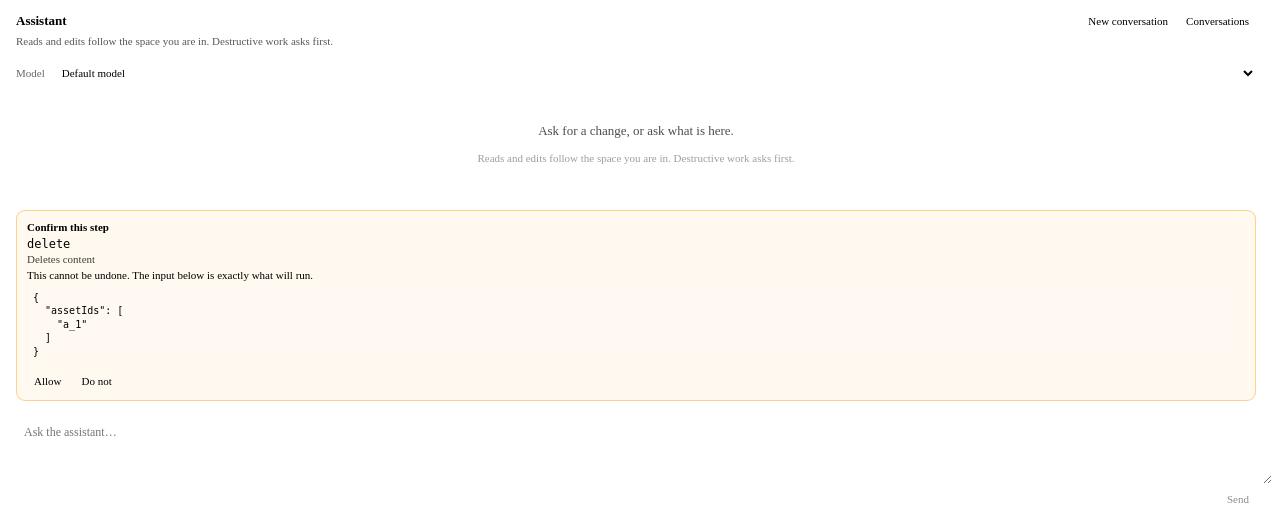
Test case: AgentDock › stops for approval and resolves the loop's promise
Expected: the element with test id "agent-approval" is shown, [16, 210, 1256, 401]
Expected: the text "This cannot be undone. The input below is exactly what will run." is shown, [27, 269, 313, 281]
Click the button "Allow".
click(48, 381)  # box [27, 372, 68, 390]
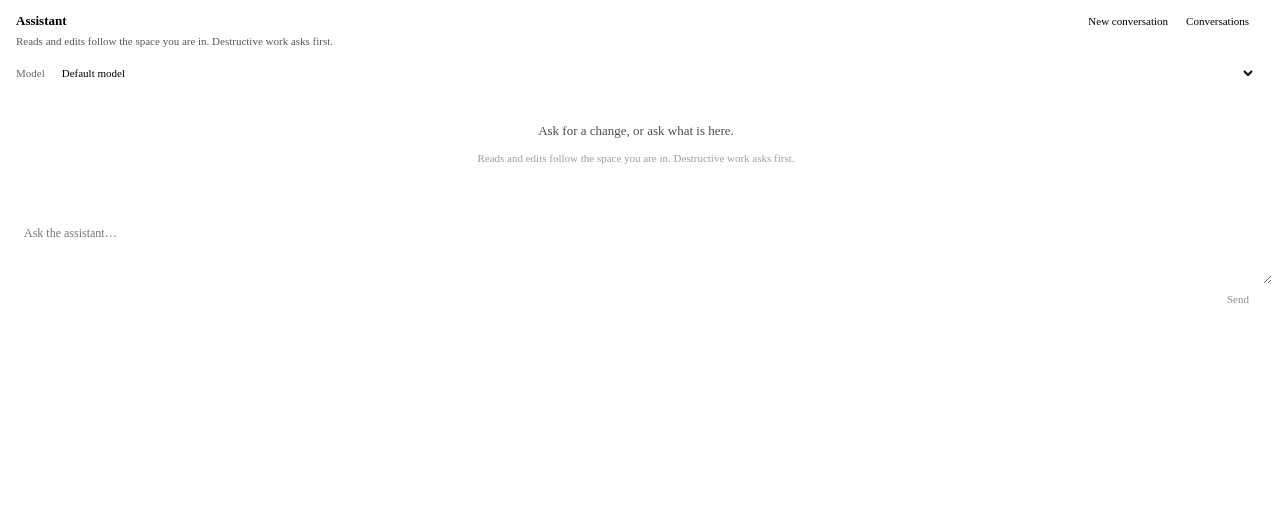
Result: the element with test id "agent-approval" is gone
